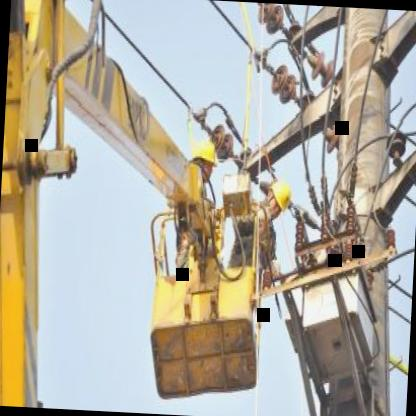helmet: (186, 130, 218, 194), (264, 174, 294, 220)
